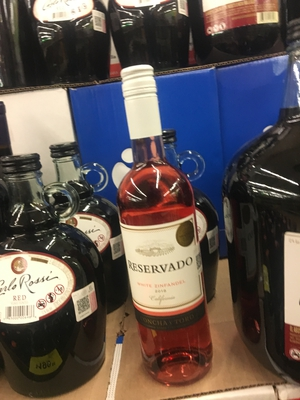reservado white zinfandel: (107, 65, 221, 387)
